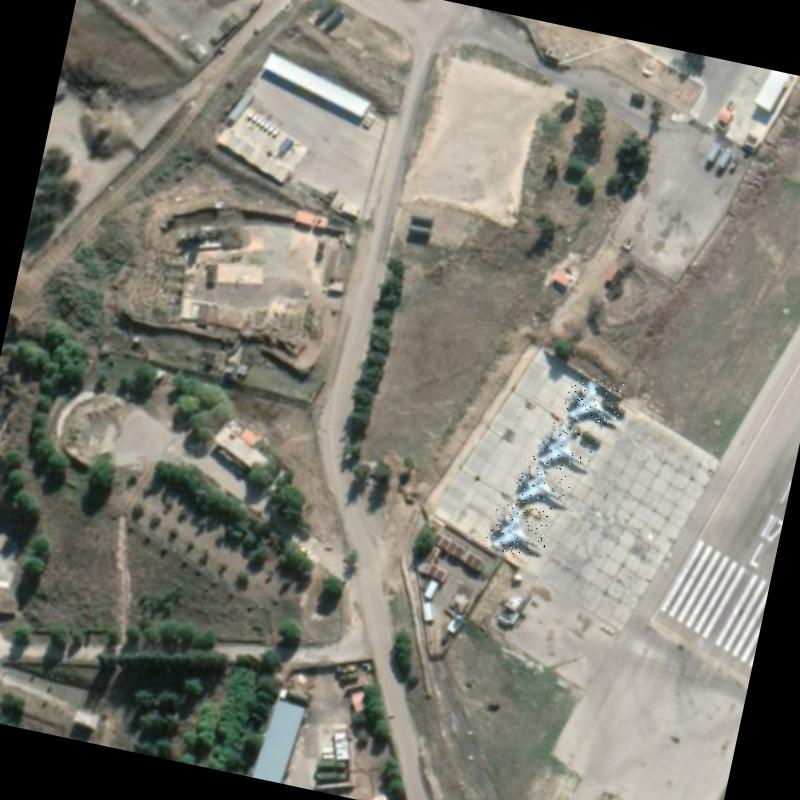A1: (484, 499, 553, 560), (531, 418, 597, 477), (562, 373, 625, 430), (512, 459, 574, 512)
